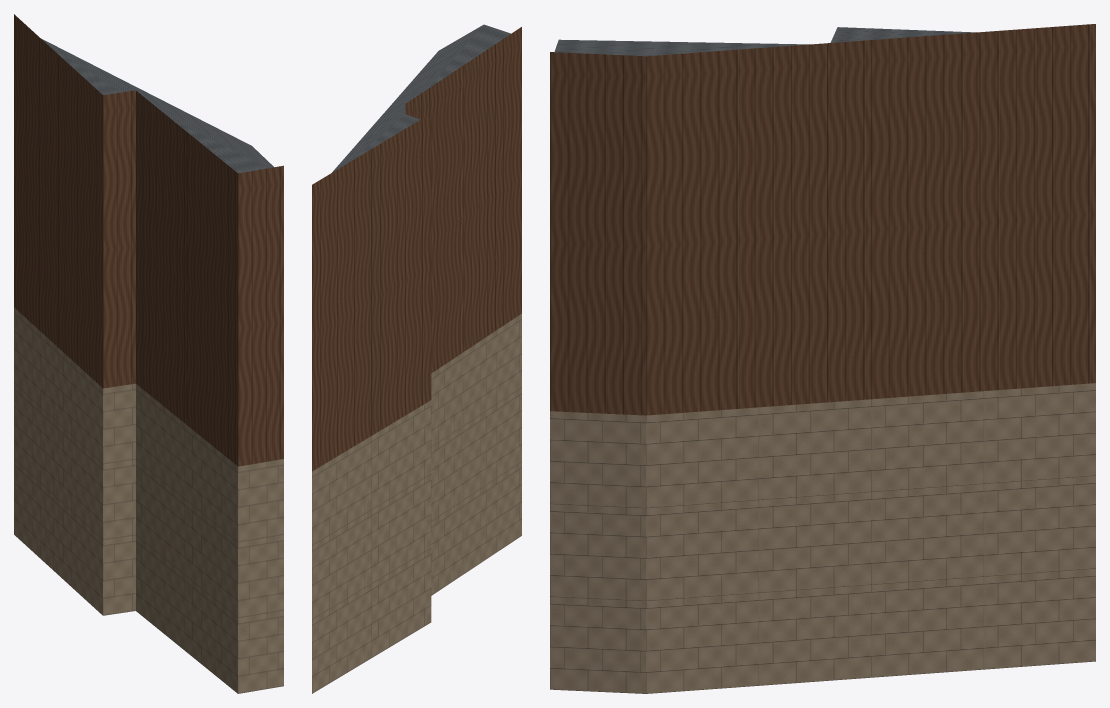
The model's file is bld_c-3_-1_544.gltf.
3 views of the same model, side by side, from view 1: azimuth 30°, elevation 25°; view 2: azimuth 150°, elevation 25°; view 3: azimuth 270°, elevation 25° (orthographic). The views are drawn at different scales.
Visible parts, largest first — view 1: bld_c-3_-1_544; view 2: bld_c-3_-1_544; view 3: bld_c-3_-1_544.
Boxes of the visible parts, left/top/right/bottom form: bld_c-3_-1_544: left=14, top=14, right=283, bottom=693; bld_c-3_-1_544: left=312, top=24, right=521, bottom=693; bld_c-3_-1_544: left=550, top=24, right=1095, bottom=693.
Size of the model in its own units: 1.66 by 11.68 by 9.06.
4 materials, 4 textured.
